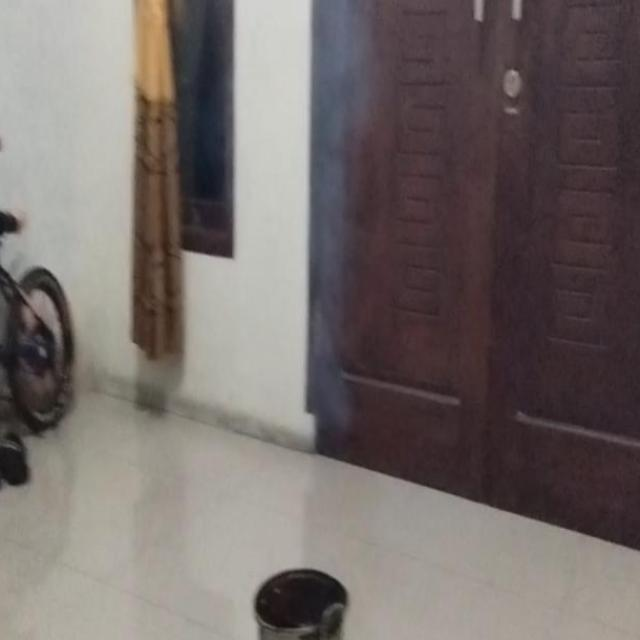fire: (311, 9, 368, 446)
